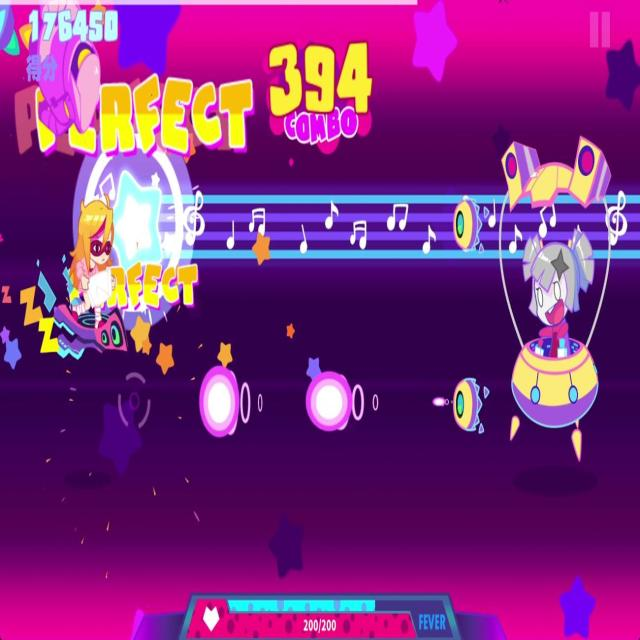hold: (107, 167, 640, 283)
qiangboss: (458, 137, 618, 467)
yuan: (302, 368, 382, 433), (197, 365, 270, 436)
